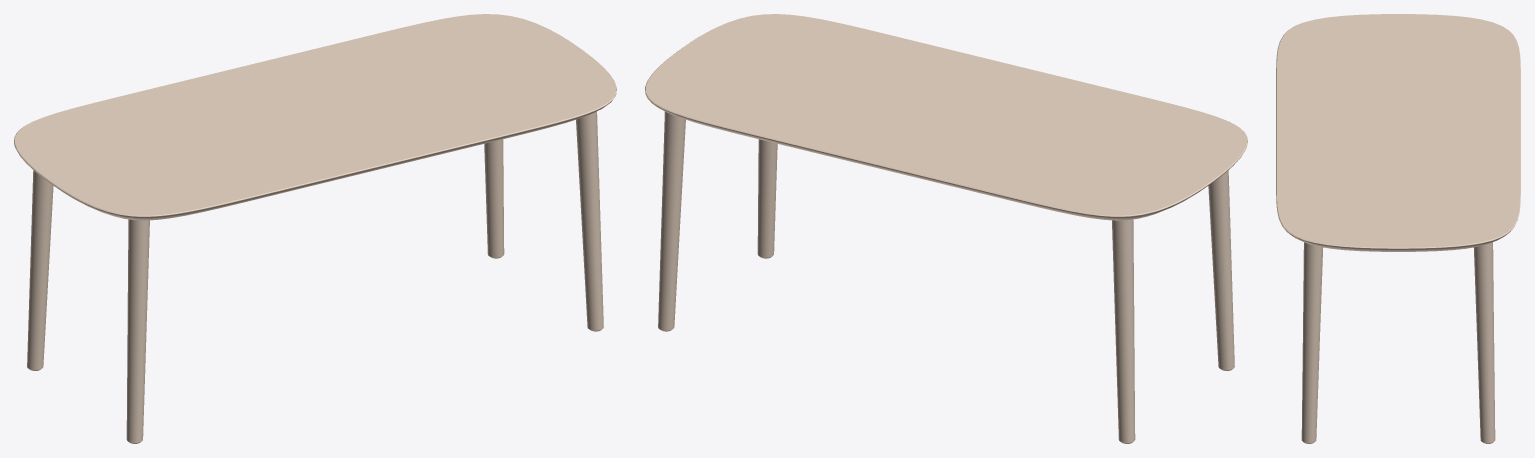
Rendered from 574_ダイニングテーブル6人掛け.glb.
The picture shows the model from 3 angles, left to right: view 1: azimuth 30°, elevation 25°; view 2: azimuth 150°, elevation 25°; view 3: azimuth 270°, elevation 25°; orthographic projection. The views are drawn at different scales.
Parts seen in each view (by area): view 1: Body; view 2: Body; view 3: Body.
Boxes of the visible parts, <box> form: Body: <box>14,14,616,443</box>; Body: <box>645,14,1247,443</box>; Body: <box>1276,14,1520,443</box>.
Bounding box in the file's own units: 1.7 × 0.71 × 0.751.
